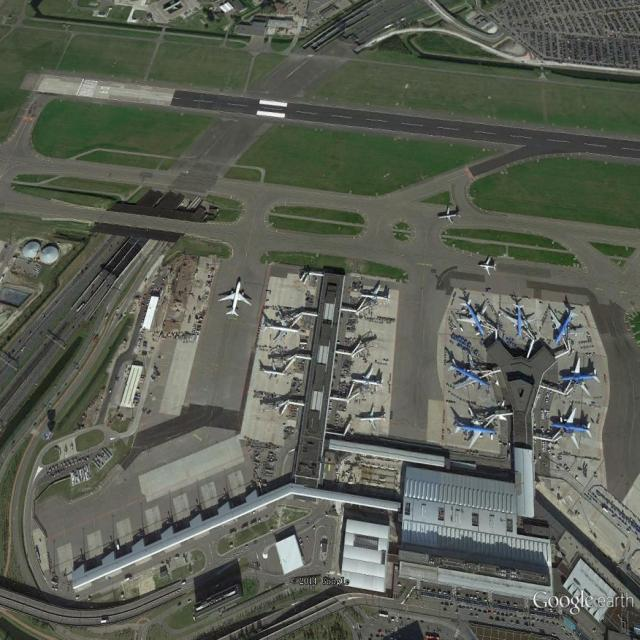aircraft: (450, 402, 499, 452), (550, 408, 595, 452), (560, 356, 603, 400), (448, 351, 494, 392), (548, 302, 586, 348), (262, 305, 302, 346), (216, 279, 256, 319), (499, 303, 539, 342), (455, 298, 490, 338), (351, 363, 385, 395), (359, 282, 392, 313), (356, 402, 389, 433), (260, 355, 292, 382), (437, 204, 464, 227), (476, 254, 501, 278)
